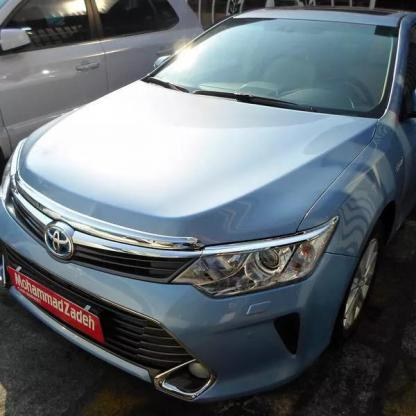Car: (0, 0, 416, 416), (1, 0, 169, 173)
